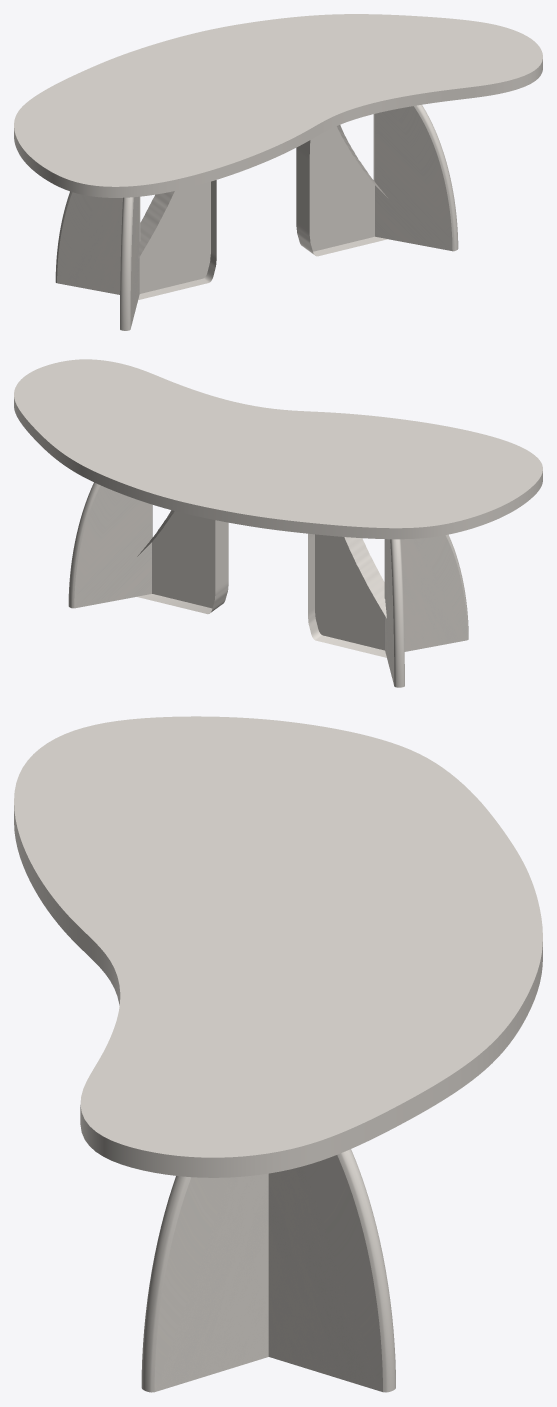
File: pearlwhite_leaf1_standard_plane.glb
3 views of the same model, one above another, from view 1: azimuth 30°, elevation 25°; view 2: azimuth 150°, elevation 25°; view 3: azimuth 270°, elevation 25° (orthographic). The views are drawn at different scales.
Visible parts, largest first — view 1: standard_leaf1, plane_singleright2, plane_single2, plane_single1, plane_singleleft1, plane_singleright1; view 2: standard_leaf1, plane_singleleft2, plane_single1, plane_single2, plane_singleright1, plane_singleleft1; view 3: standard_leaf1, plane_singleleft2, plane_singleright2.
Part boxes in pixels (left/top/right/bottom): standard_leaf1: left=14, top=14, right=542, bottom=197; plane_singleright2: left=373, top=104, right=458, bottom=251; plane_single2: left=296, top=125, right=387, bottom=256; plane_single1: left=138, top=180, right=216, bottom=300; plane_singleleft1: left=55, top=191, right=140, bottom=294; plane_singleright1: left=120, top=196, right=139, bottom=330; standard_leaf1: left=14, top=359, right=542, bottom=539; plane_singleleft2: left=68, top=482, right=152, bottom=608; plane_single1: left=308, top=533, right=386, bottom=657; plane_single2: left=136, top=510, right=228, bottom=614; plane_singleright1: left=384, top=534, right=468, bottom=651; plane_singleleft1: left=385, top=539, right=404, bottom=687; standard_leaf1: left=14, top=716, right=542, bottom=1177; plane_singleleft2: left=268, top=1149, right=395, bottom=1392; plane_singleright2: left=141, top=1173, right=268, bottom=1392.
Bounding box in the file's own units: 7.5 × 2.5 × 3.8.
1 material, 1 textured.
